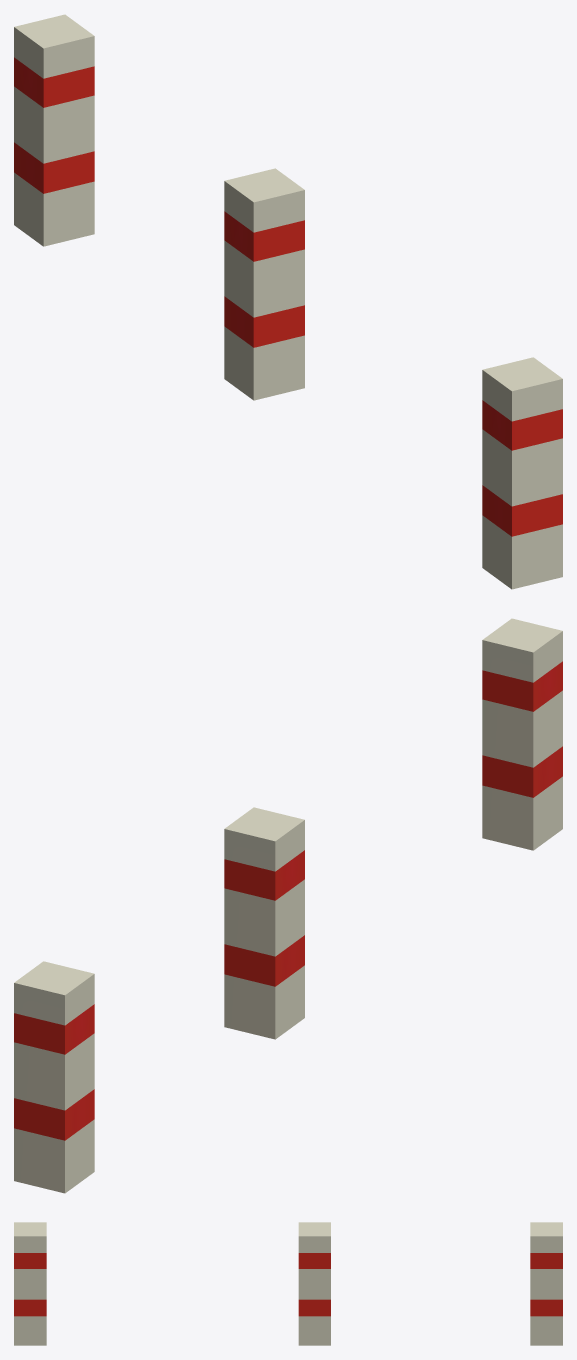
Rendered from Fence_05.fbx.
3 renders of one model, top to bottom at view 1: azimuth 30°, elevation 25°; view 2: azimuth 150°, elevation 25°; view 3: azimuth 270°, elevation 25°, orthographic. The views are drawn at different scales.
Visible parts, largest first — view 1: pCube52; view 2: pCube52; view 3: pCube52.
Boxes of the visible parts, box(x1,y1,x2,y2) form: pCube52: box(14, 14, 562, 589); pCube52: box(14, 618, 562, 1193); pCube52: box(14, 1222, 562, 1345).
Size of the model in its own units: 0.1782 by 0.66 by 3.01.
